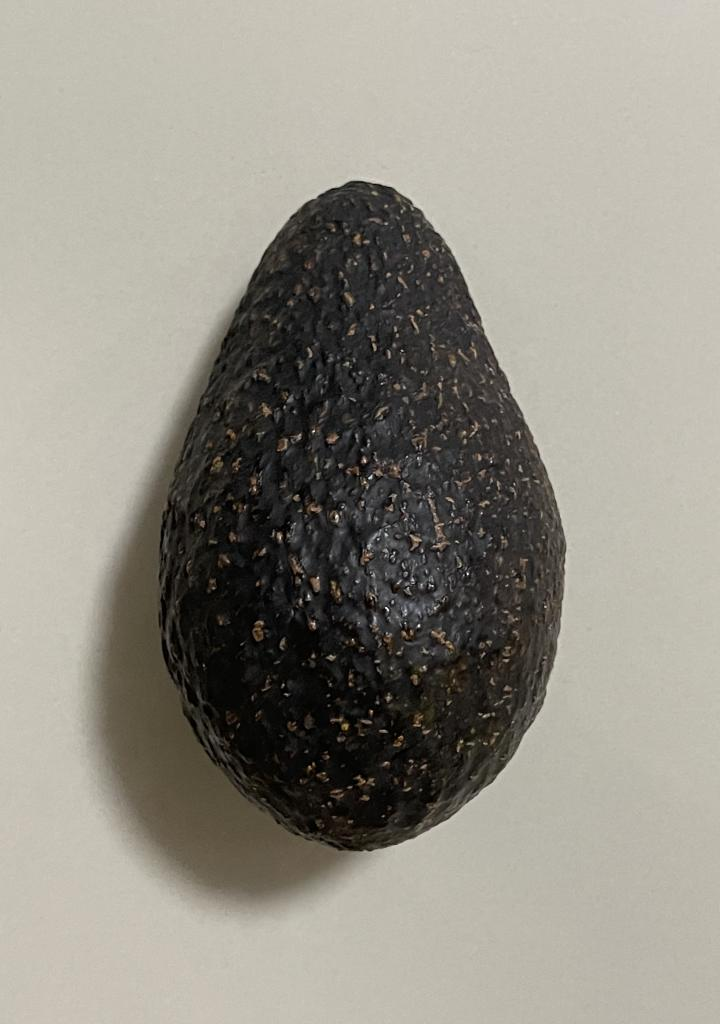Level2: (150, 168, 573, 862)
